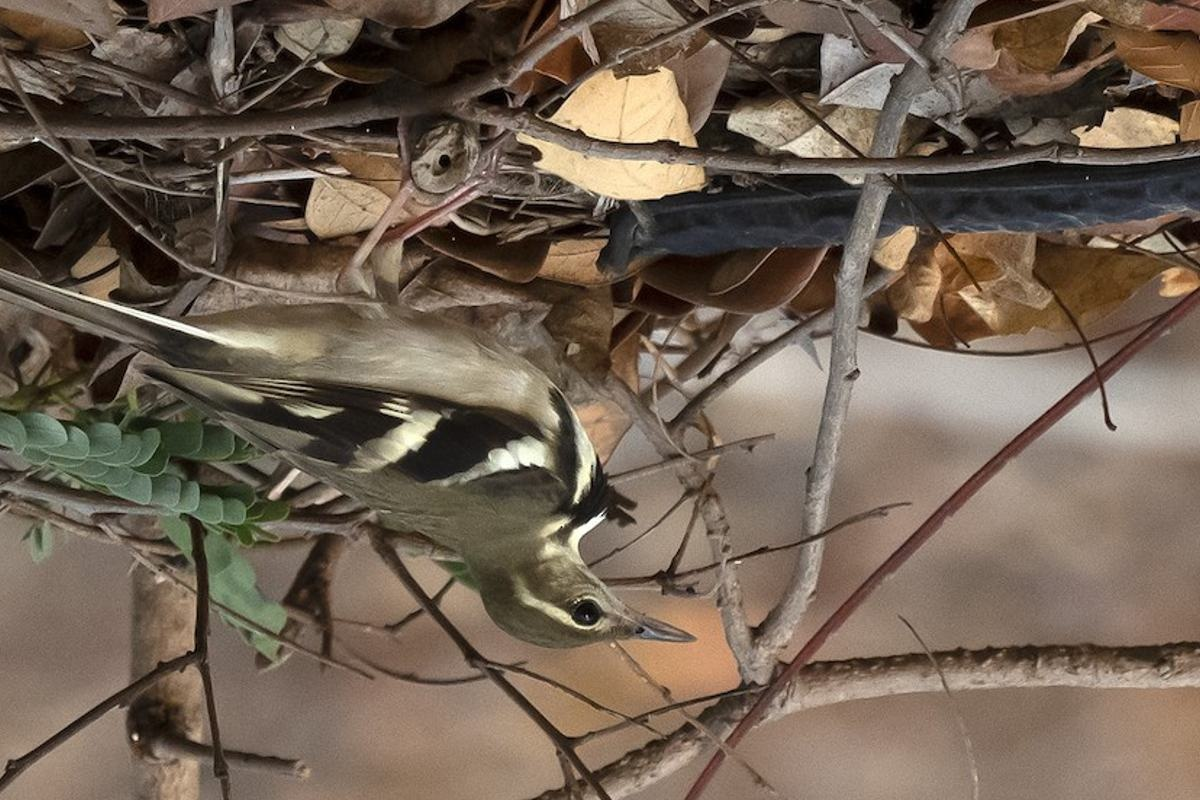wagtail: (39, 181, 699, 707)
